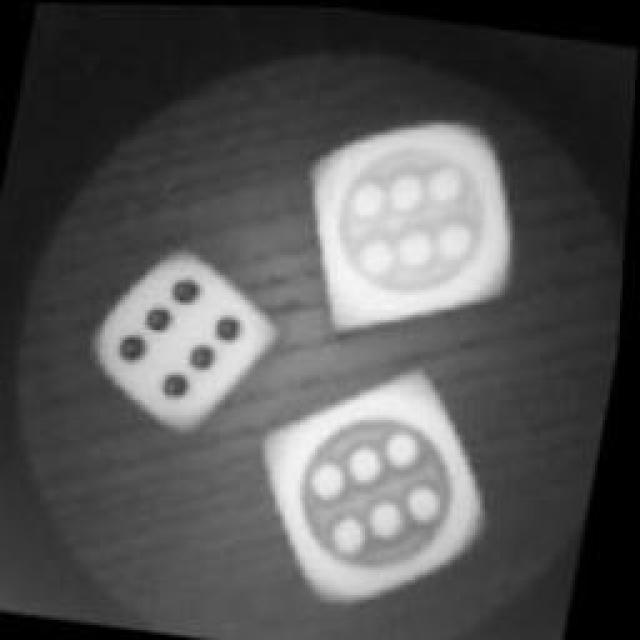dice_6: (244, 364, 516, 614), (288, 100, 548, 340), (84, 241, 278, 434)
